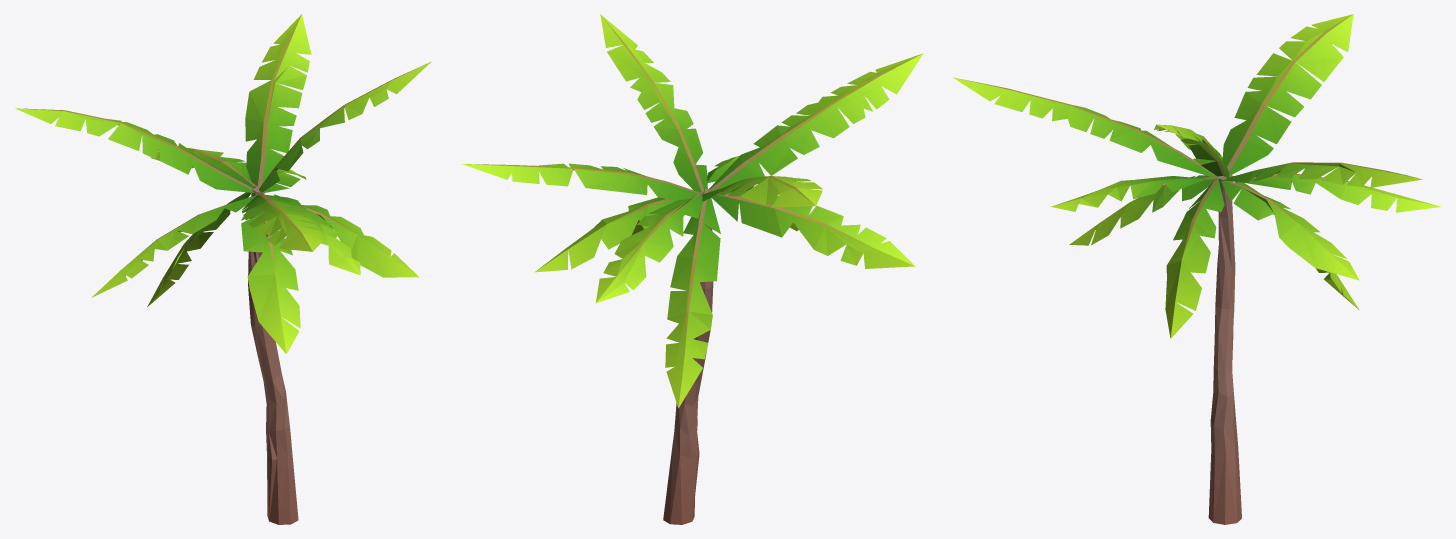
3 renders of one model, left to right at view 1: azimuth 30°, elevation 25°; view 2: azimuth 150°, elevation 25°; view 3: azimuth 270°, elevation 25°, orthographic.
Visible parts, largest first — view 1: Palm3_straight; view 2: Palm3_straight; view 3: Palm3_straight.
Part boxes in pixels (x1,y1,x2,y2): Palm3_straight: (15,14,431,524); Palm3_straight: (462,14,923,524); Palm3_straight: (953,14,1440,524).
Size of the model in its own units: 10.51 by 13.65 by 13.49.
Materials: 1 (1 with a texture image).
